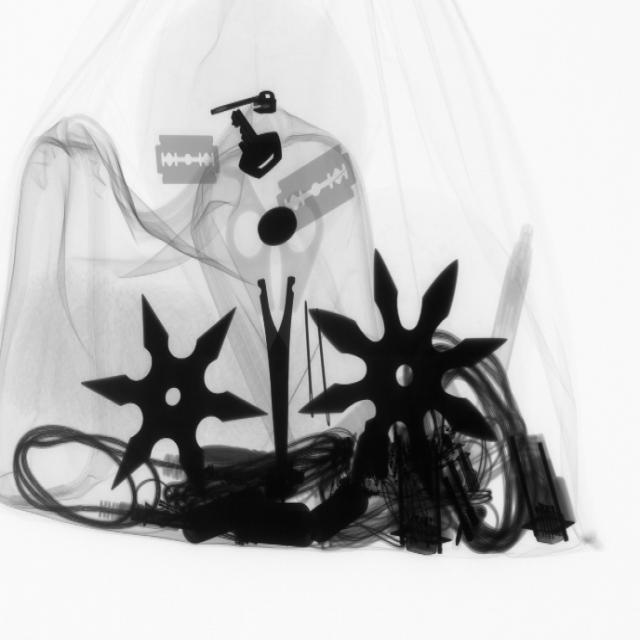BLADE: (272, 138, 363, 234), (151, 123, 230, 198)
SHURIKEN: (308, 250, 506, 491), (89, 292, 263, 497)
